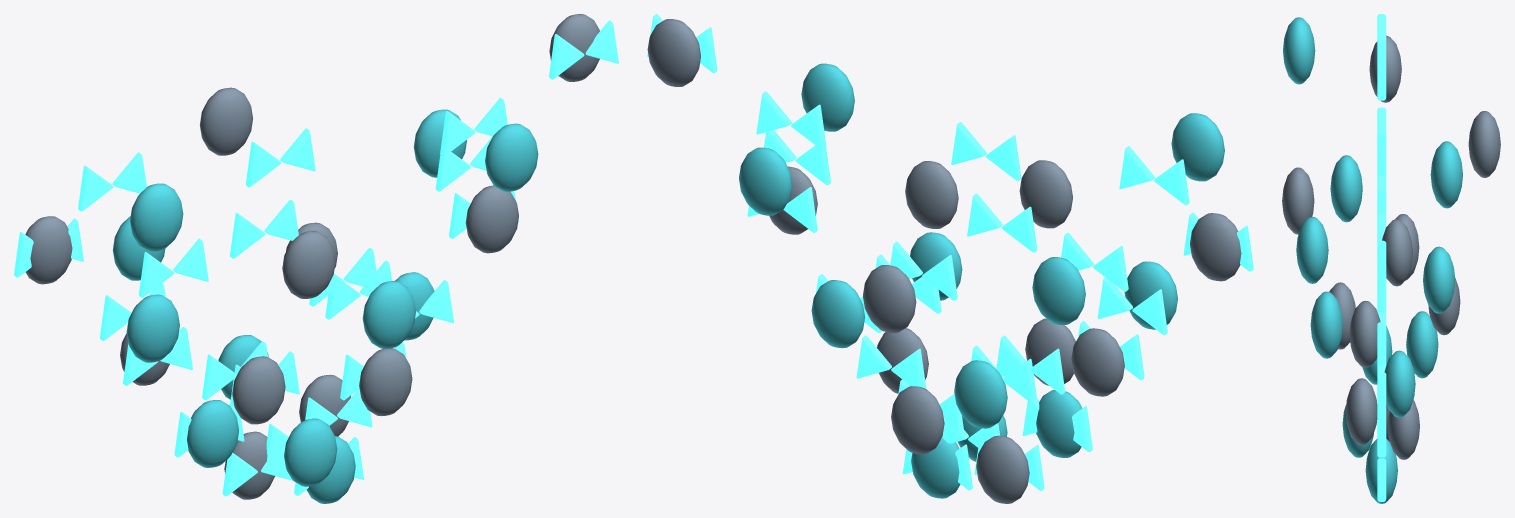
The model's file is swarm_v7.glb.
3 renders of one model, left to right at view 1: azimuth 30°, elevation 25°; view 2: azimuth 150°, elevation 25°; view 3: azimuth 270°, elevation 25°, orthographic. The views are drawn at different scales.
Visible parts, largest first — view 1: MOTH_SWARM_ACCENT.001, MOTH_SWARM_PRIMARY.007, MOTH_SWARM_PRIMARY.003, MOTH_SWARM_ACCENT.009, MOTH_SWARM_ACCENT.010, MOTH_SWARM_ACCENT.006, MOTH_SWARM_ACCENT.005, MOTH_SWARM_PRIMARY.009, MOTH_SWARM_PRIMARY.002, MOTH_SWARM_ACCENT.002, MOTH_SWARM_PRIMARY.006, MOTH_SWARM_PRIMARY.008 (+31 smaller); view 2: MOTH_SWARM_PRIMARY.004, MOTH_SWARM_PRIMARY.005, MOTH_SWARM_PRIMARY.001, MOTH_SWARM_ACCENT.003, MOTH_SWARM_PRIMARY.009, MOTH_SWARM_PRIMARY, MOTH_SWARM_ACCENT.008, MOTH_SWARM_PRIMARY.010, MOTH_SWARM_ACCENT.004, MOTH_SWARM_ACCENT.007, MOTH_SWARM_PRIMARY.007, MOTH_SWARM_ACCENT.010 (+31 smaller); view 3: MOTH_SWARM_ACCENT.006, MOTH_SWARM_ACCENT.005, MOTH_SWARM_PRIMARY.002, MOTH_SWARM_ACCENT.008, MOTH_SWARM_ACCENT.007, MOTH_SWARM_ACCENT.009, MOTH_SWARM_PRIMARY.009, MOTH_SWARM_ACCENT.010, MOTH_SWARM_ACCENT.003, MOTH_SWARM_ACCENT.004, MOTH_SWARM_PRIMARY.007, MOTH_SWARM_PRIMARY.006 (+18 smaller).
Boxes of the visible parts, x1,y1,x2,y2 form: MOTH_SWARM_ACCENT.001: (284, 418, 337, 486); MOTH_SWARM_PRIMARY.007: (282, 231, 335, 298); MOTH_SWARM_PRIMARY.003: (232, 356, 285, 424); MOTH_SWARM_ACCENT.009: (485, 123, 538, 191); MOTH_SWARM_ACCENT.010: (130, 183, 183, 251); MOTH_SWARM_ACCENT.006: (126, 294, 179, 362); MOTH_SWARM_ACCENT.005: (362, 281, 415, 348); MOTH_SWARM_PRIMARY.009: (200, 87, 252, 155); MOTH_SWARM_PRIMARY.002: (359, 348, 412, 416); MOTH_SWARM_ACCENT.002: (187, 400, 238, 467); MOTH_SWARM_PRIMARY.006: (465, 185, 518, 253); MOTH_SWARM_PRIMARY.008: (25, 216, 72, 284); MOTH_SWARM_PRIMARY.004: (1071, 328, 1124, 396); MOTH_SWARM_PRIMARY.005: (863, 265, 916, 332); MOTH_SWARM_PRIMARY.001: (891, 386, 944, 454); MOTH_SWARM_ACCENT.003: (954, 360, 1007, 428); MOTH_SWARM_PRIMARY.009: (905, 161, 958, 228); MOTH_SWARM_PRIMARY: (976, 435, 1029, 503); MOTH_SWARM_ACCENT.008: (739, 147, 792, 215); MOTH_SWARM_PRIMARY.010: (647, 19, 700, 86); MOTH_SWARM_ACCENT.004: (811, 280, 864, 348); MOTH_SWARM_ACCENT.007: (1032, 257, 1085, 324); MOTH_SWARM_PRIMARY.007: (1019, 160, 1072, 228); MOTH_SWARM_ACCENT.010: (1171, 113, 1224, 181); MOTH_SWARM_ACCENT.006: (1330, 155, 1362, 222); MOTH_SWARM_ACCENT.005: (1310, 291, 1342, 358); MOTH_SWARM_PRIMARY.002: (1345, 378, 1377, 445); MOTH_SWARM_ACCENT.008: (1423, 246, 1455, 313); MOTH_SWARM_ACCENT.007: (1430, 141, 1462, 208); MOTH_SWARM_ACCENT.009: (1296, 216, 1328, 283); MOTH_SWARM_PRIMARY.009: (1468, 111, 1500, 177); MOTH_SWARM_ACCENT.010: (1283, 17, 1315, 84); MOTH_SWARM_ACCENT.003: (1406, 311, 1438, 378); MOTH_SWARM_ACCENT.004: (1384, 350, 1415, 417); MOTH_SWARM_PRIMARY.007: (1282, 167, 1314, 234); MOTH_SWARM_PRIMARY.006: (1349, 300, 1380, 367).
Bounding box in the file's own units: 2.85 × 1.9 × 0.9457.
